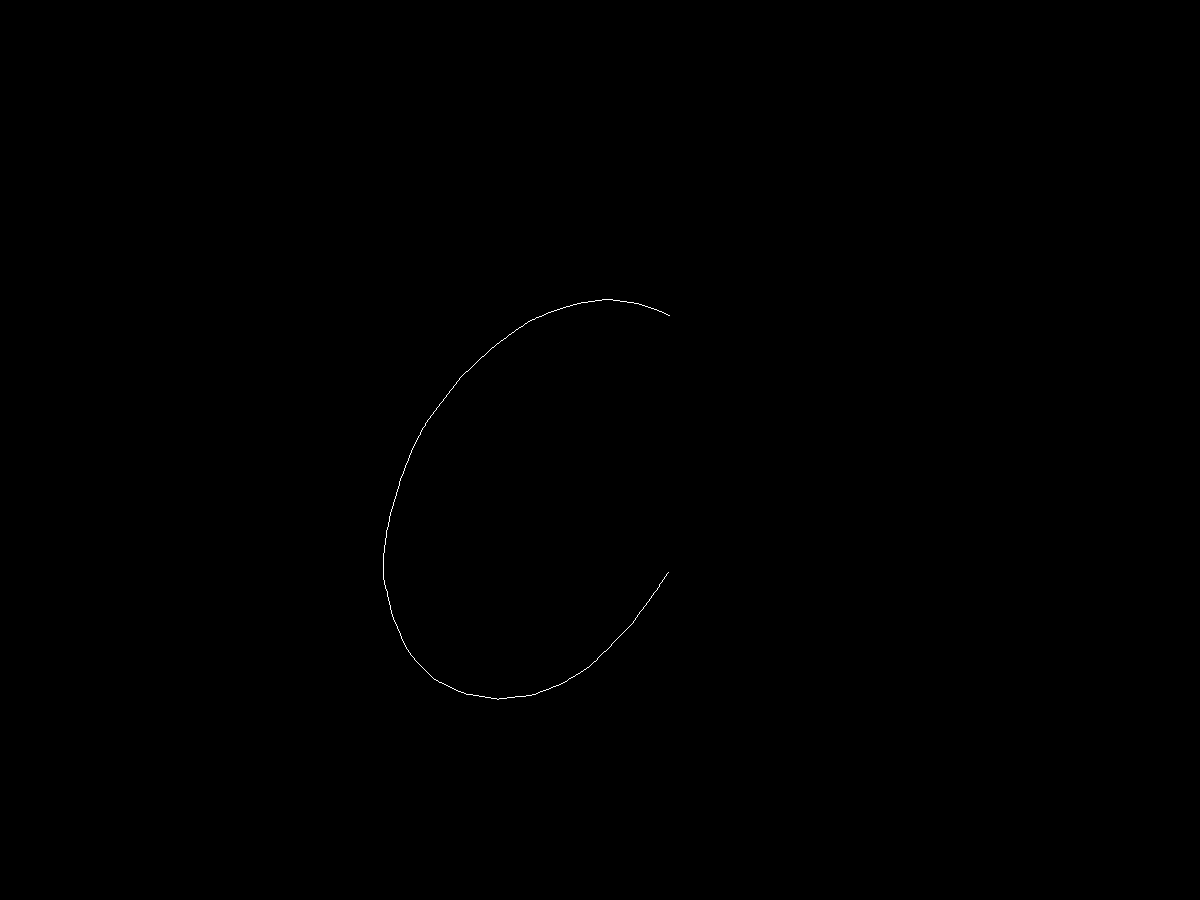dian1: (655, 301, 677, 328)
dian2: (661, 555, 691, 584)
